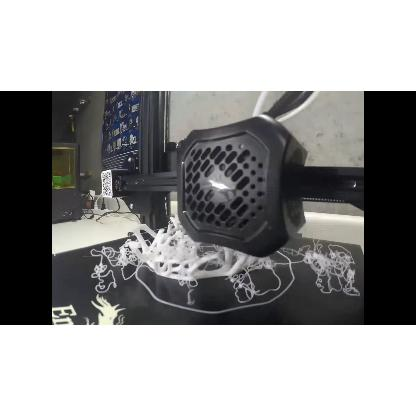fail: (185, 267, 277, 315), (295, 244, 363, 298), (82, 241, 144, 291)
